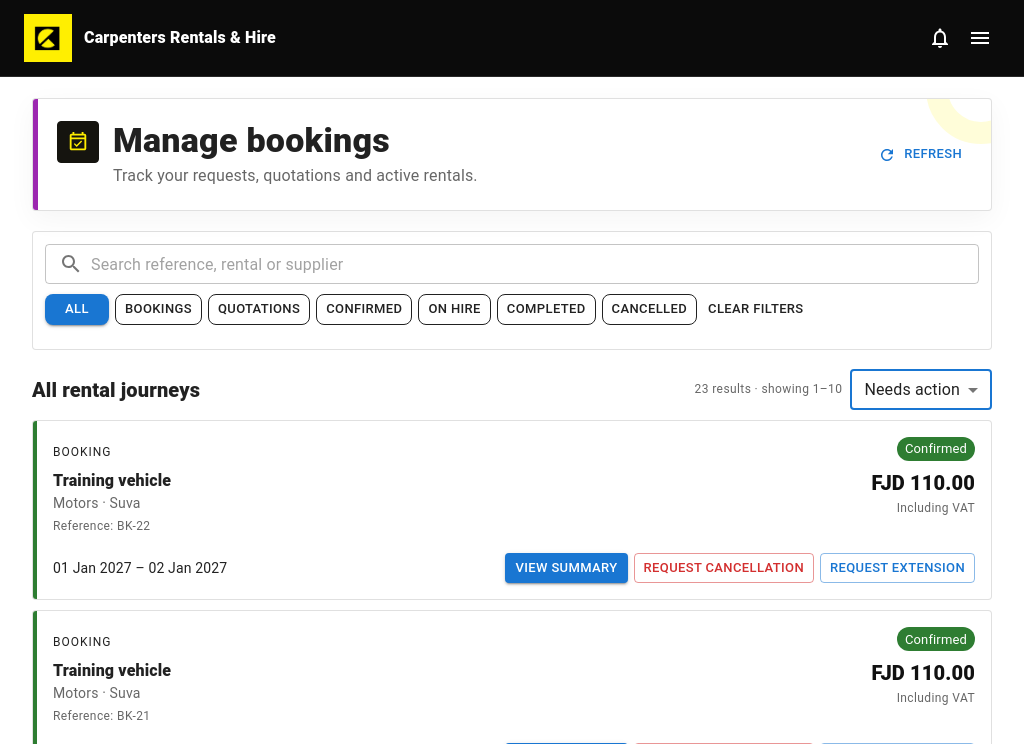
Test: paginates and sorts rental journeys without losing the current search
Earlier steps of the test are not shown.
In the field with placeholder "Search reference, rental or supplier": (535, 264) [91, 244, 979, 284], type "BK-22"
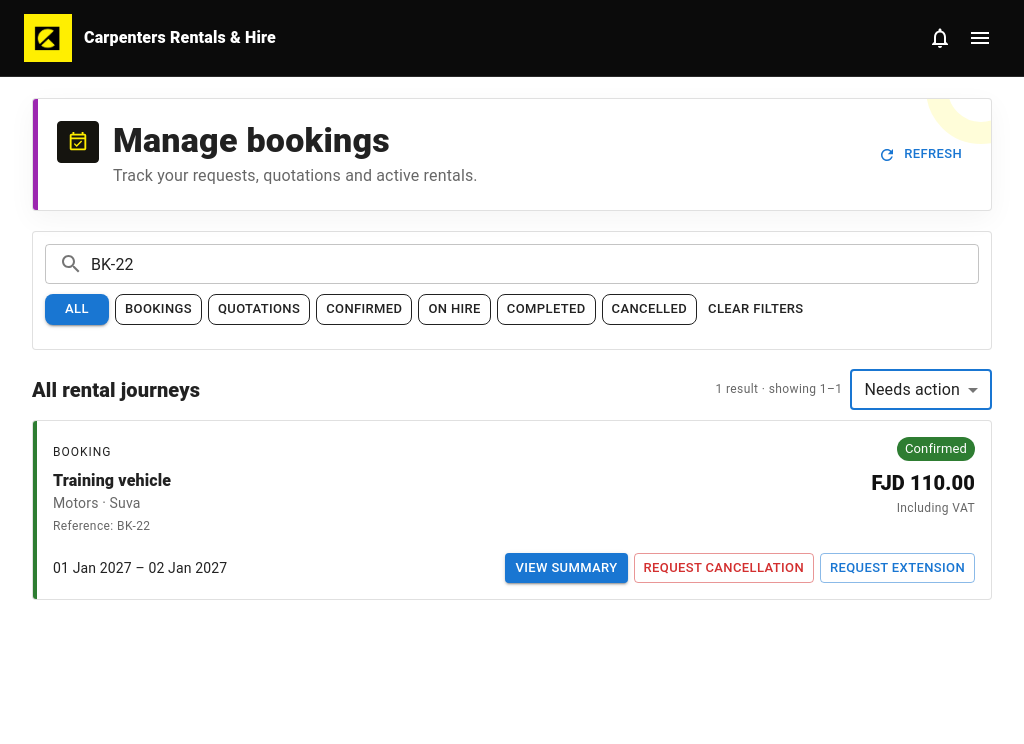
Check: the text "1 result · showing 1–1" is shown, box [716, 380, 842, 400]
